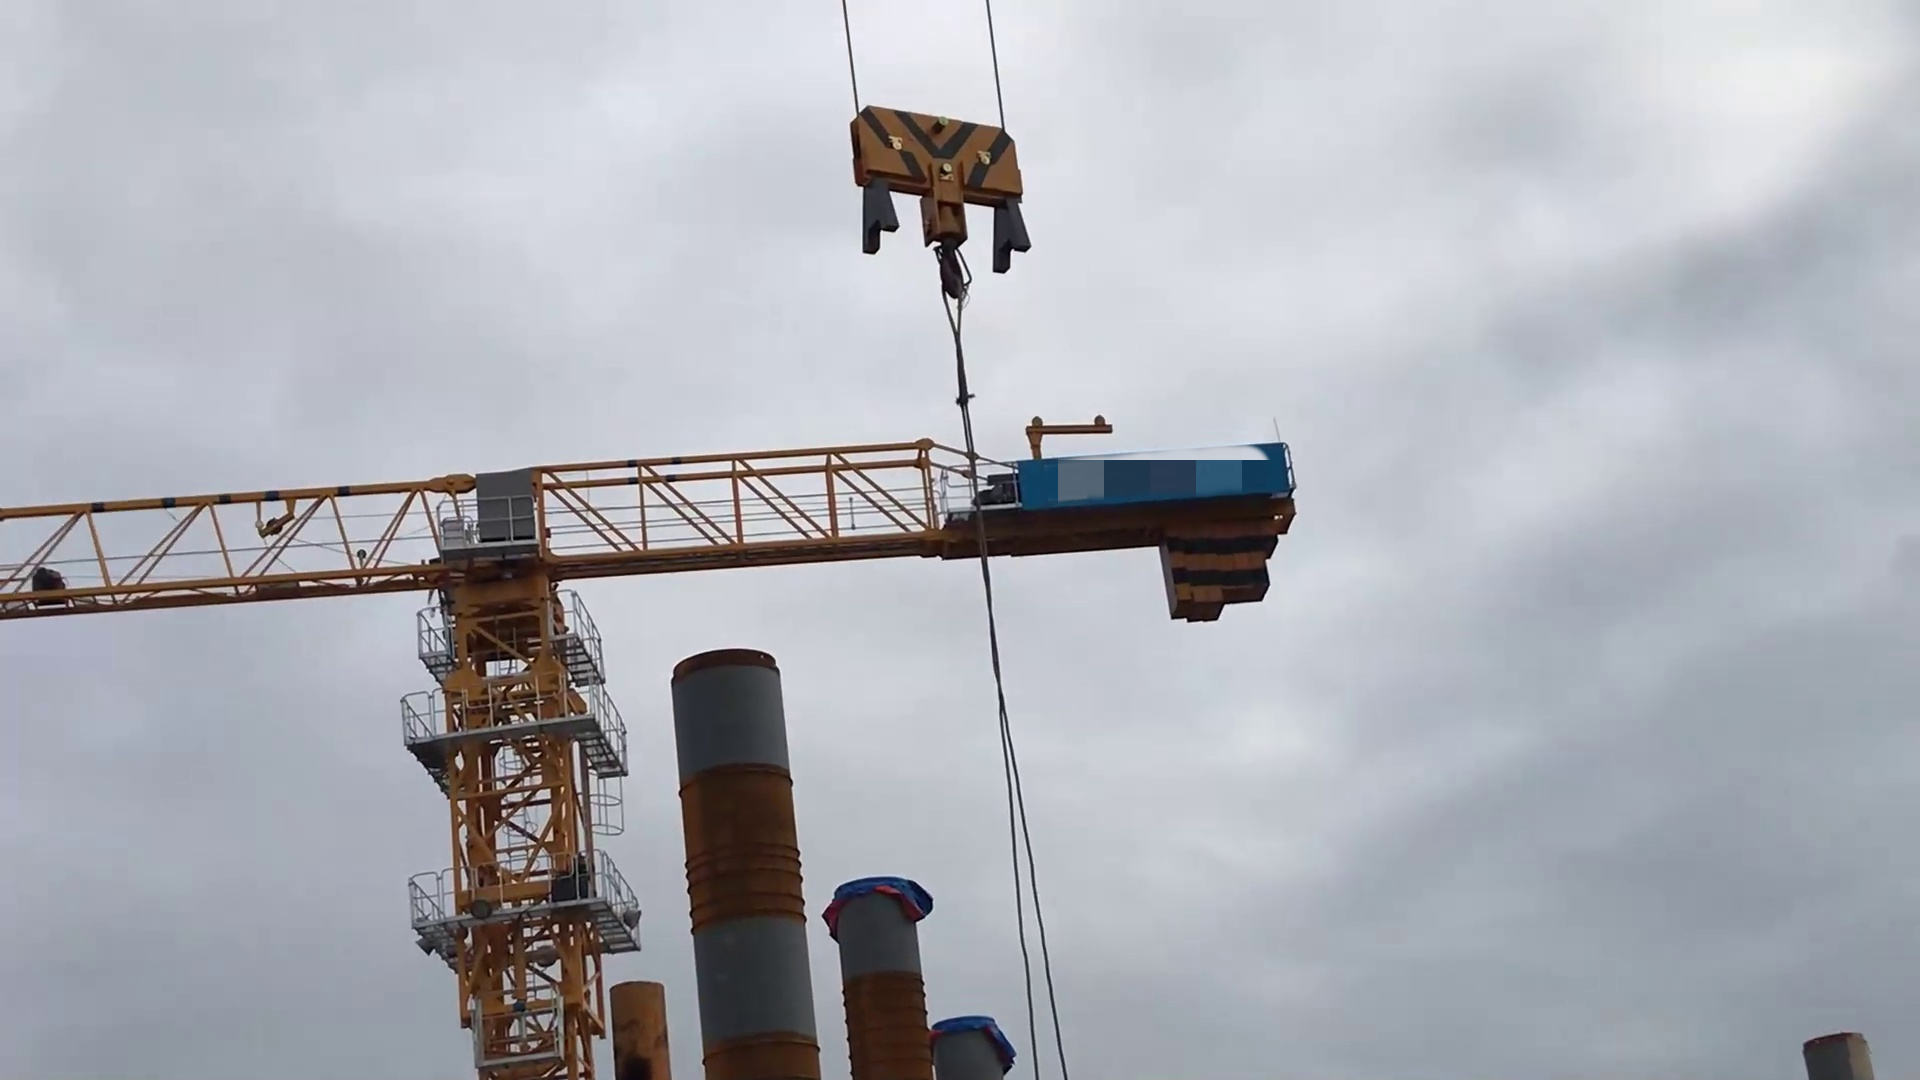hook: (837, 90, 1051, 311)
